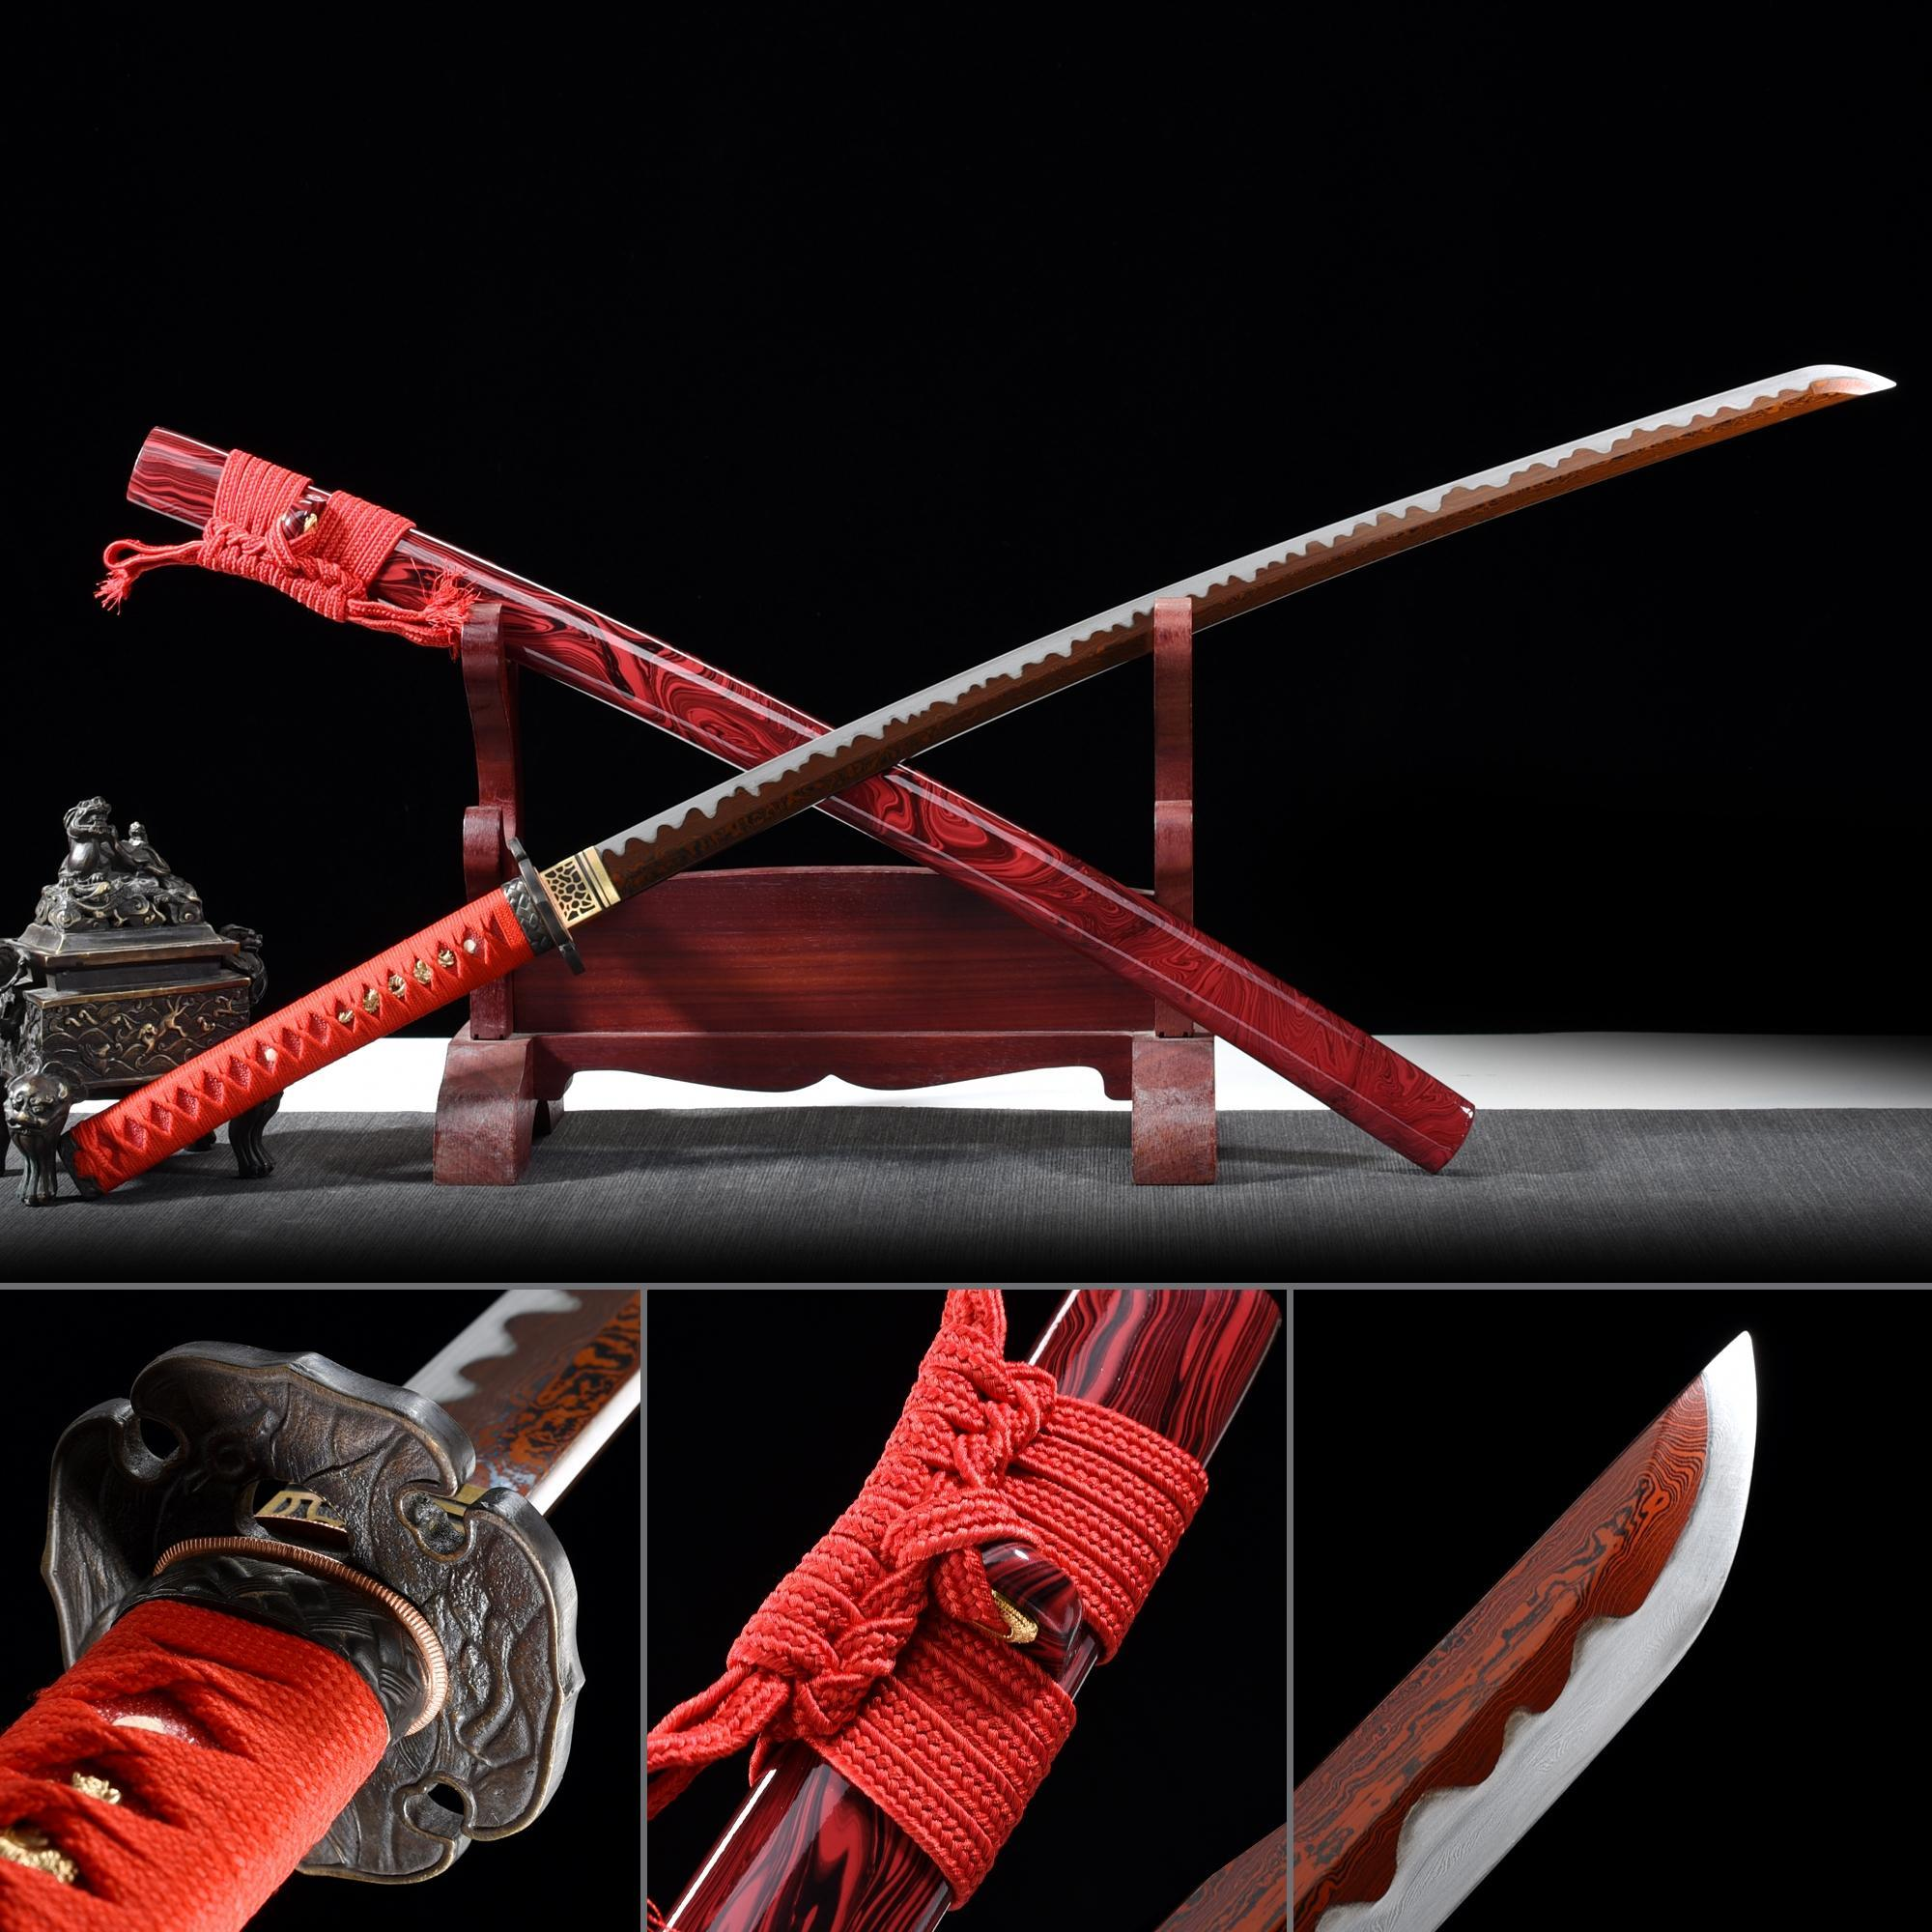espada: (78, 364, 1890, 1191), (0, 1288, 640, 1930), (1297, 1332, 1757, 1930)
